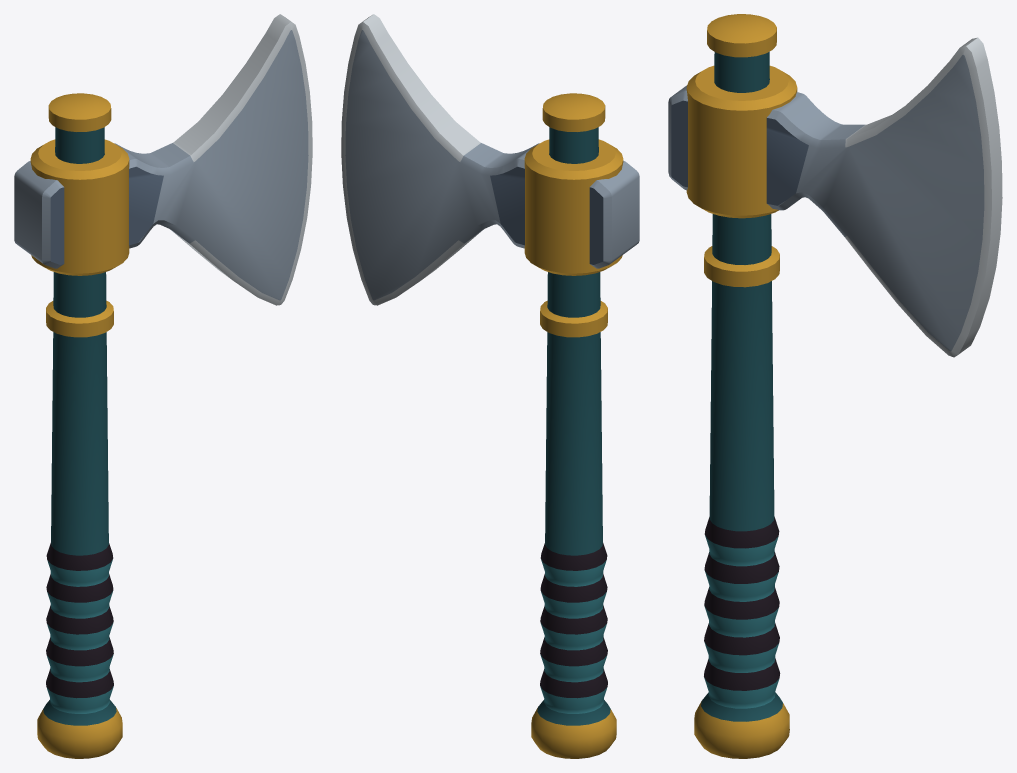
File: Axe_24.glb
3 renders of one model, left to right at view 1: azimuth 30°, elevation 25°; view 2: azimuth 150°, elevation 25°; view 3: azimuth 330°, elevation 25°, orthographic. The views are drawn at different scales.
Visible parts, largest first — view 1: Axe_24; view 2: Axe_24; view 3: Axe_24.
Boxes of the visible parts, <box> form: Axe_24: <box>14,14,312,758</box>; Axe_24: <box>341,14,639,758</box>; Axe_24: <box>668,14,1002,758</box>.
Bounding box in the file's own units: 2.12 × 4.9 × 0.65.
